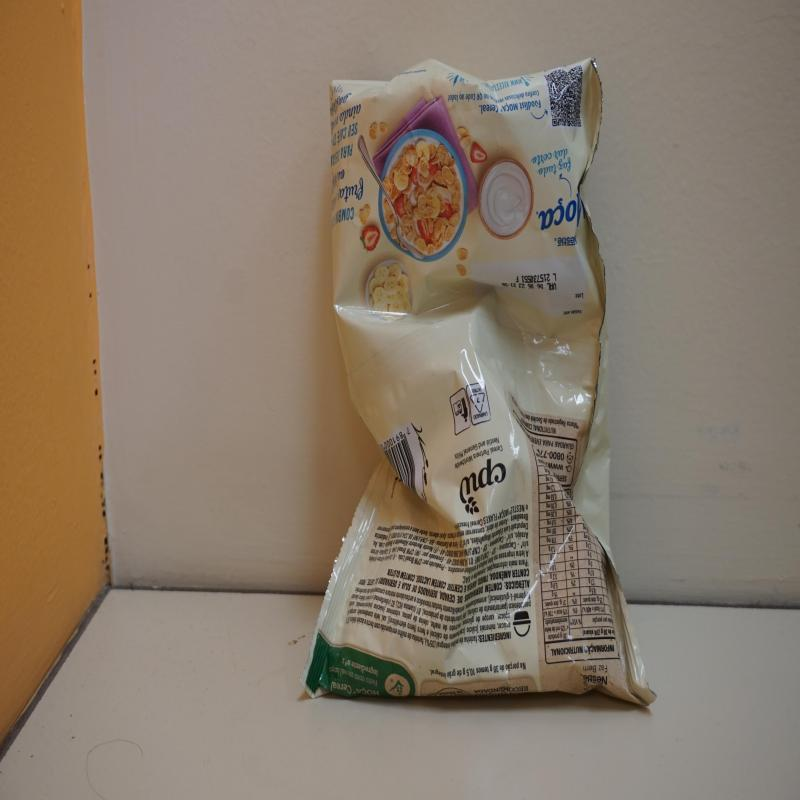CornFlakes: (302, 60, 656, 710)
